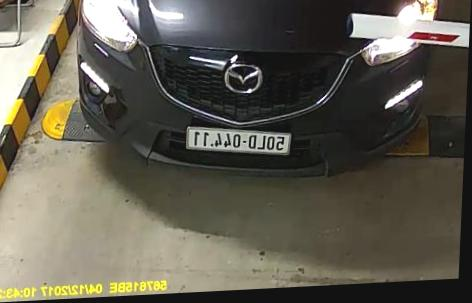License_Plate: (186, 121, 297, 160)
